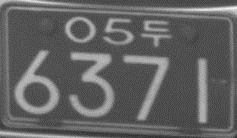0: (64, 15, 95, 44)
1: (184, 56, 223, 124)
3: (68, 51, 116, 118)
5: (102, 17, 134, 46)
6: (13, 49, 59, 115)
7: (122, 53, 169, 121)
두: (140, 19, 171, 47)
